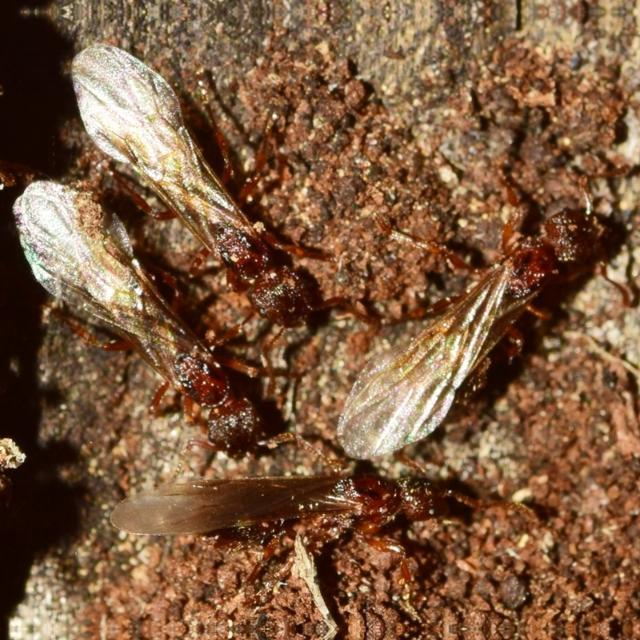Myrmica: (64, 49, 358, 349), (348, 170, 632, 424), (52, 258, 284, 467), (158, 457, 478, 567)
